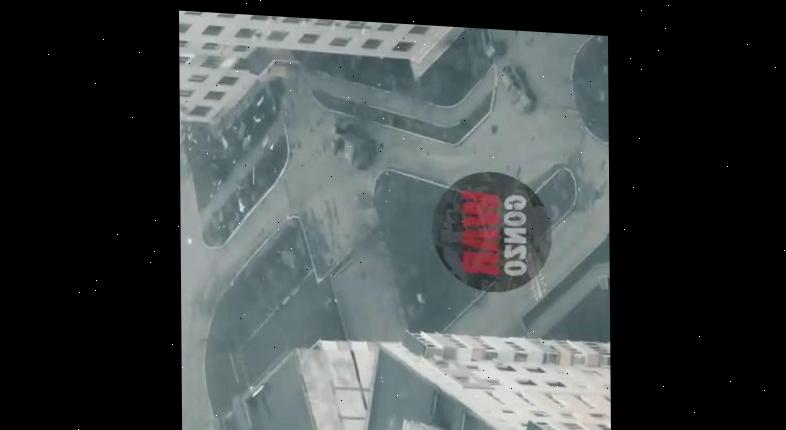armored_car: (327, 118, 377, 170)
car: (500, 65, 534, 114)
